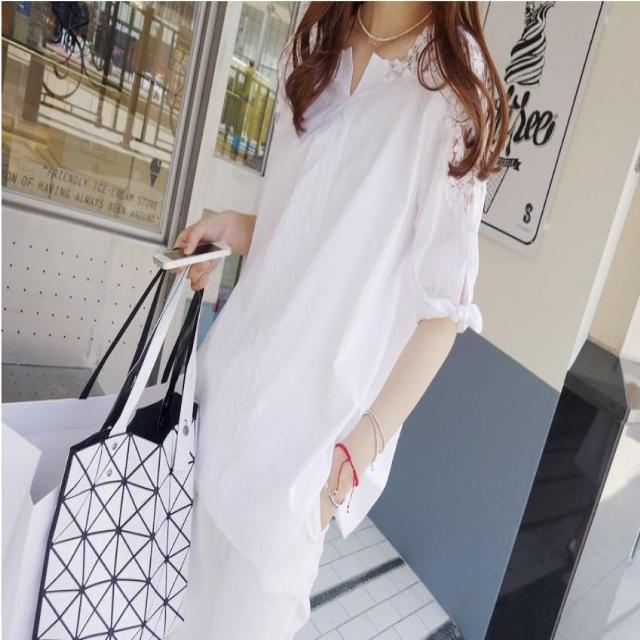short sleeve top: (180, 5, 488, 591)
